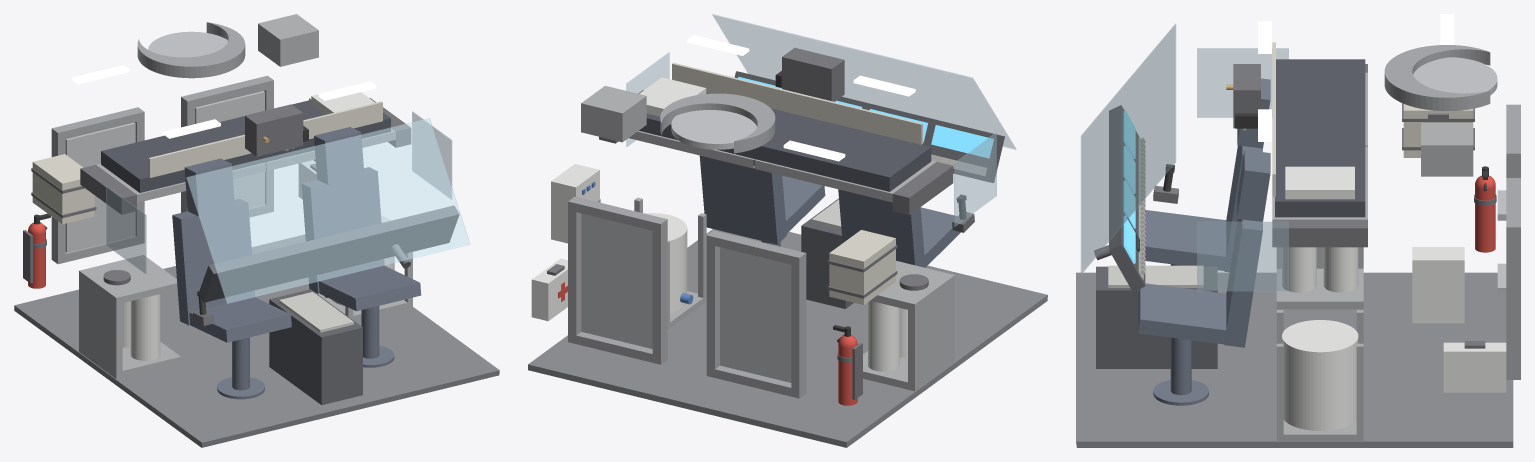
The model's file is rover24_pressurised_cab_m_cutaway.glb.
The picture shows the model from 3 angles, left to right: view 1: azimuth 30°, elevation 25°; view 2: azimuth 150°, elevation 25°; view 3: azimuth 270°, elevation 25°; orthographic projection. The views are drawn at different scales.
Visible parts, largest first — view 1: window_glass_inner, deck_floor, seat_2, seat_1, dash_panel, eq08_1_frame, centre_console, eq44_1_mattress, hatch_door_2, hatch_tunnel_2, eq44_1_guard_strap, eq19_1_bag (+16 smaller); view 2: deck_floor, window_glass_inner, hatch_door_1, hatch_door_2, eq44_1_mattress, seat_1, eq08_1_frame, hatch_tunnel_2, hatch_tunnel_1, eq44_1_guard_strap, seat_2, eq19_1_bag (+20 smaller); view 3: deck_floor, window_glass_inner, eq44_1_mattress, seat_1, eq11_1_tank, seat_2, centre_console, eq12_1_body, hatch_tunnel_3, dash_panel, eq08_1_canisters, eq14_1_case (+18 smaller).
Boxes of the visible parts, <box> form: window_glass_inner: <box>106,111,470,303</box>; deck_floor: <box>14,234,499,447</box>; seat_2: <box>172,158,291,399</box>; seat_1: <box>301,127,421,367</box>; dash_panel: <box>198,205,459,302</box>; eq08_1_frame: <box>79,255,180,379</box>; centre_console: <box>269,289,362,405</box>; eq44_1_mattress: <box>101,100,390,192</box>; hatch_door_2: <box>65,122,135,252</box>; hatch_tunnel_2: <box>51,107,144,264</box>; eq44_1_guard_strap: <box>148,101,382,177</box>; eq19_1_bag: <box>32,154,94,224</box>; deck_floor: <box>528,229,1047,447</box>; window_glass_inner: <box>626,14,1016,226</box>; hatch_door_1: <box>581,213,652,348</box>; hatch_door_2: <box>720,247,791,382</box>; eq44_1_mattress: <box>639,92,931,191</box>; seat_1: <box>699,155,825,246</box>; eq08_1_frame: <box>863,261,954,391</box>; hatch_tunnel_2: <box>706,230,806,398</box>; hatch_tunnel_1: <box>568,196,667,364</box>; eq44_1_guard_strap: <box>672,62,922,144</box>; seat_2: <box>838,189,960,267</box>; eq19_1_bag: <box>829,230,895,304</box>; deck_floor: <box>1076,272,1513,447</box>; window_glass_inner: <box>1080,24,1288,291</box>; eq44_1_mattress: <box>1275,59,1365,217</box>; seat_1: <box>1138,150,1270,405</box>; eq11_1_tank: <box>1282,320,1358,430</box>; seat_2: <box>1145,78,1270,272</box>; centre_console: <box>1096,266,1217,368</box>; eq12_1_body: <box>1412,247,1464,323</box>; hatch_tunnel_3: <box>1384,45,1490,110</box>; dash_panel: <box>1109,105,1145,291</box>; eq08_1_canisters: <box>1282,247,1358,292</box>; eq14_1_case: <box>1443,342,1506,392</box>.
Bounding box in the file's own units: 2.37 × 1.86 × 2.56.
